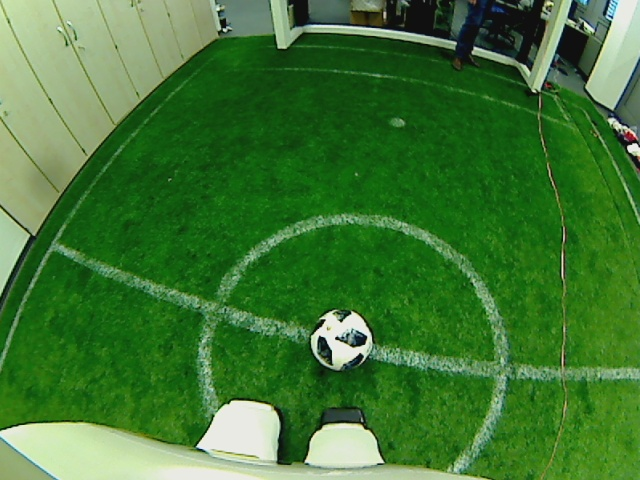ball: (307, 305, 374, 374)
